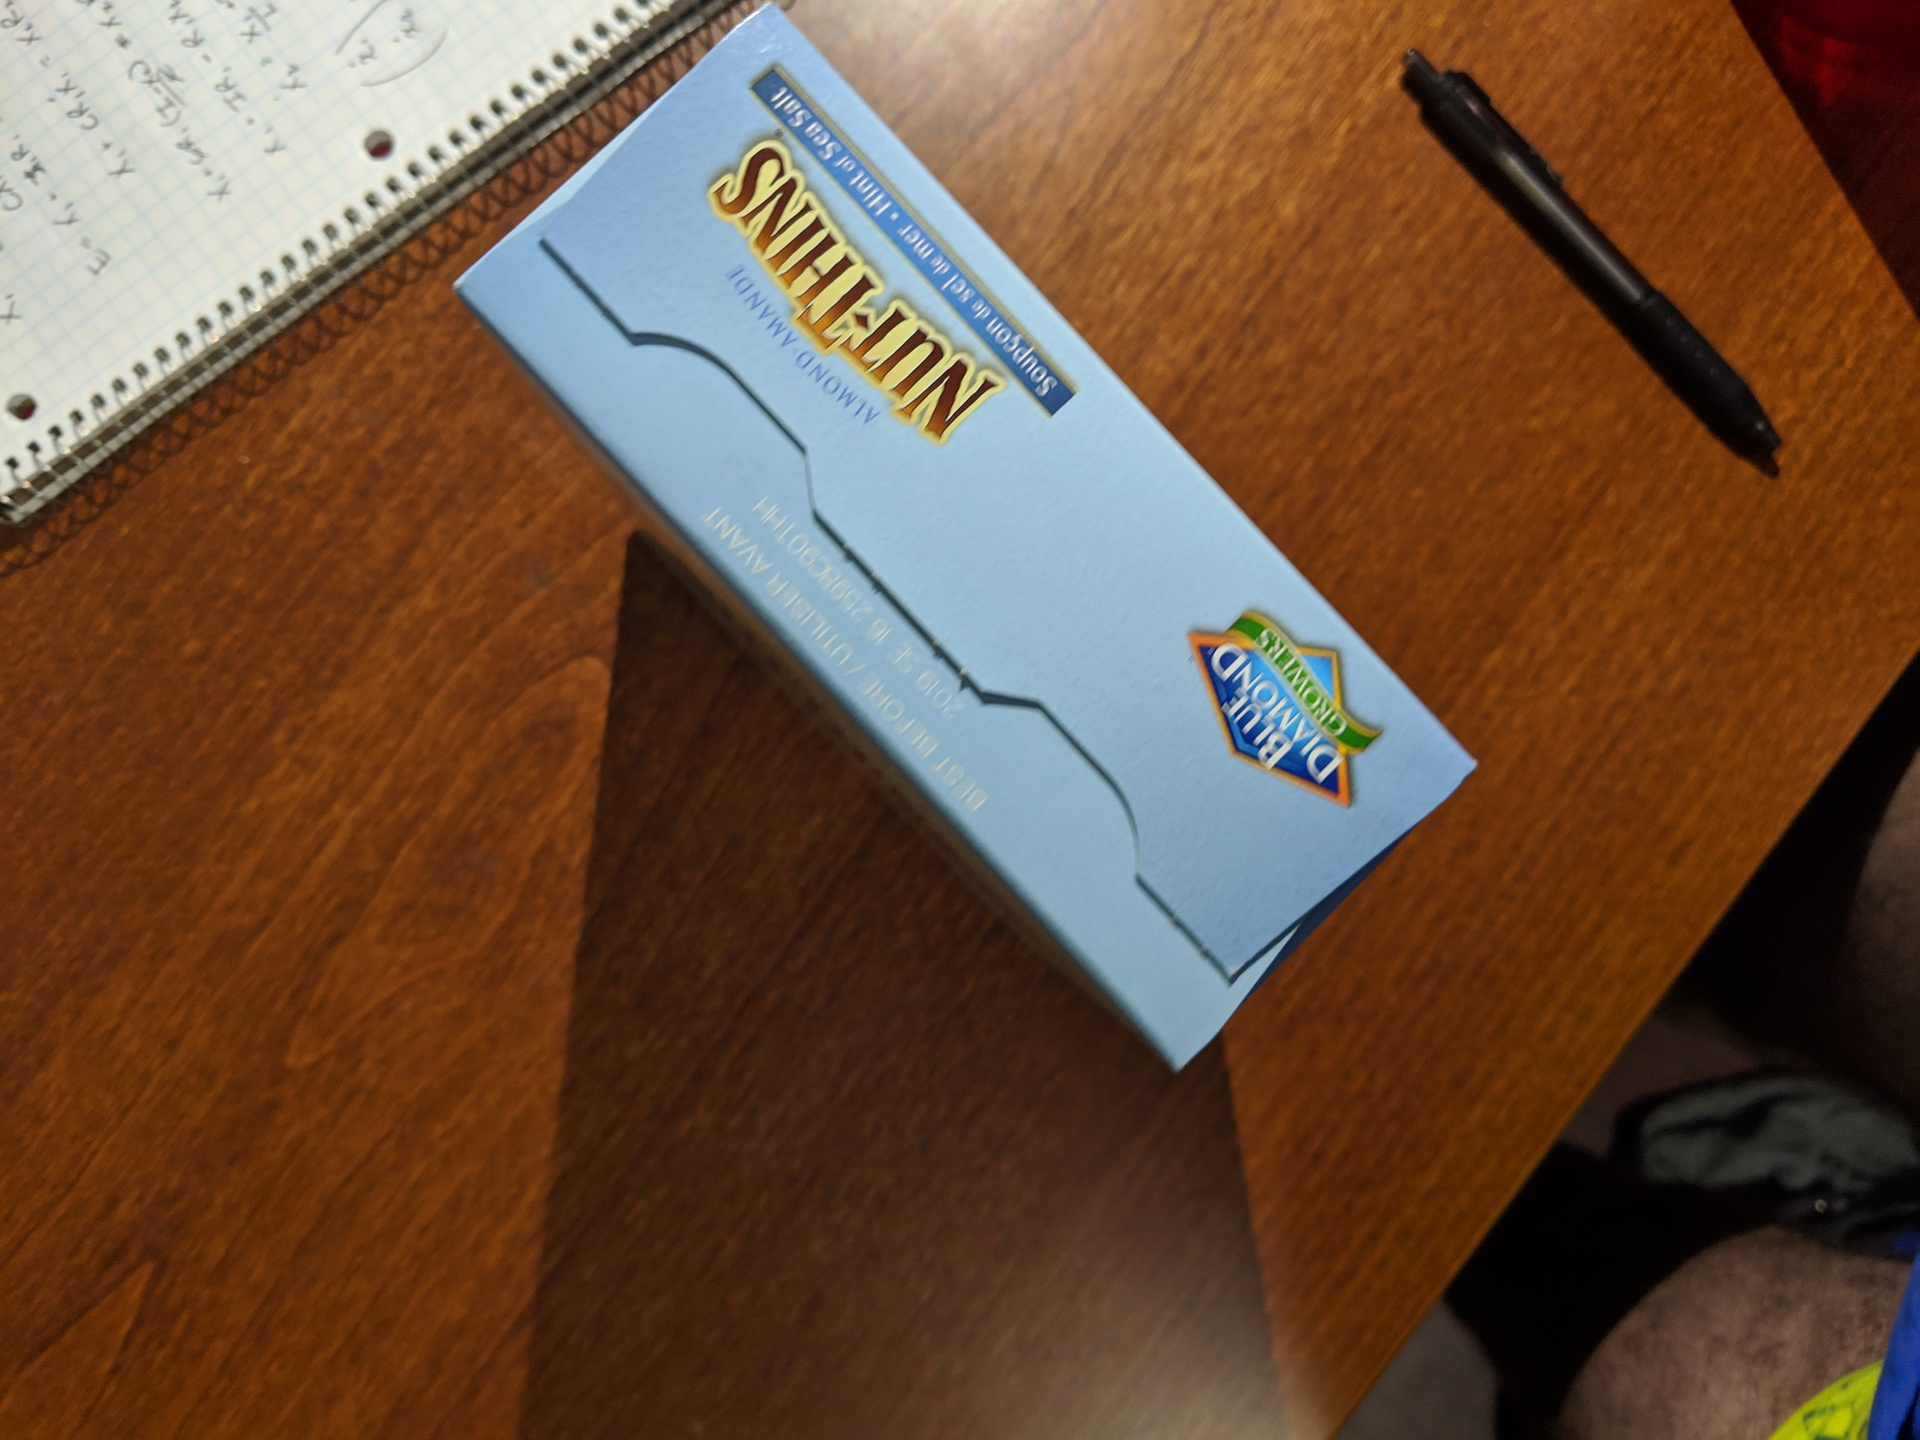blue_diamond_nut_thins_almond_seasalt: (578, 110, 1333, 900)
